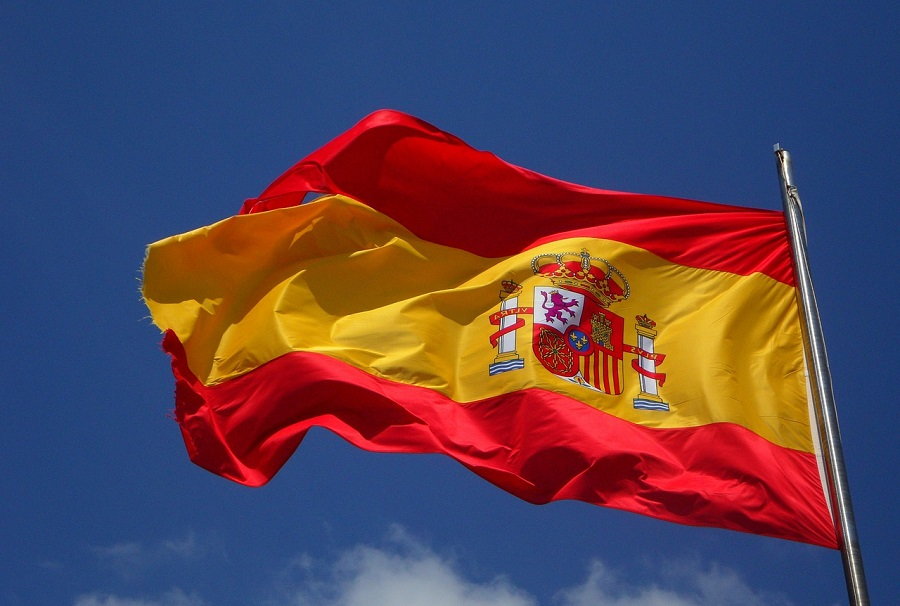Flag: (143, 111, 845, 551)
